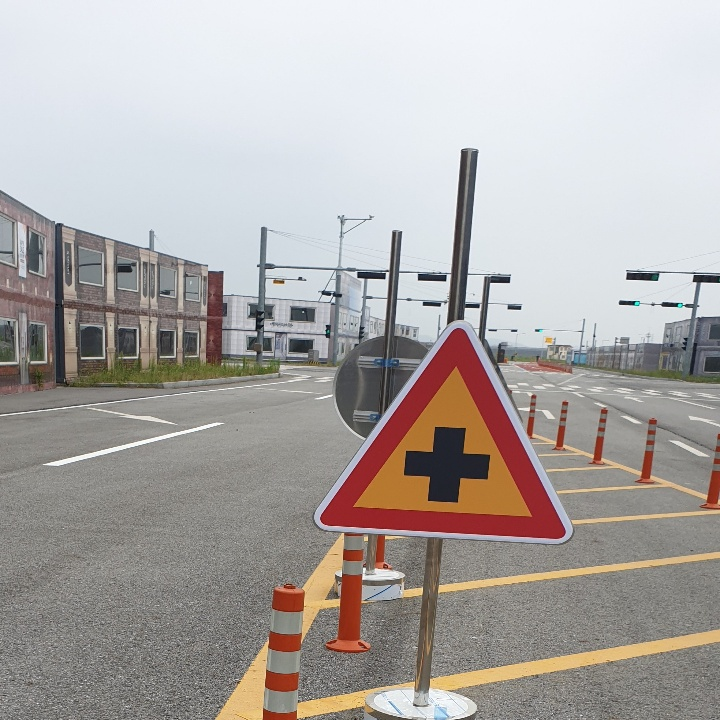inter: (397, 418, 497, 517)
